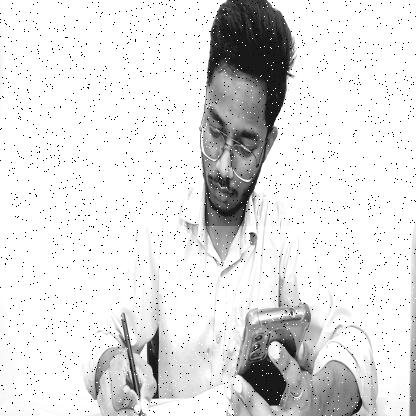Distracted: (197, 0, 294, 226)
